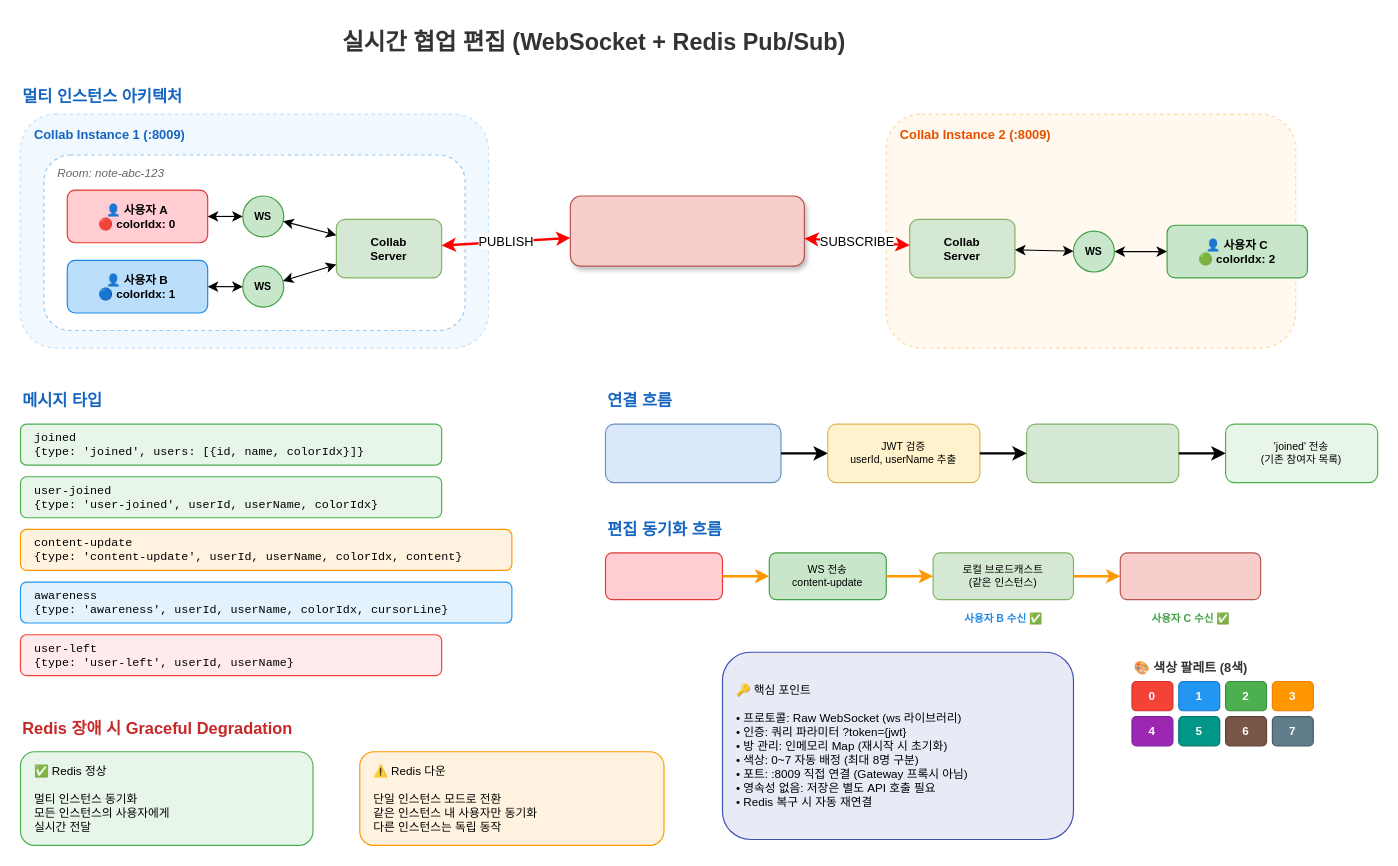
Some shapes in this 1398 by 866 pixel diagram are drawn without their labels. The shapes that lost their labels are listed below. From the top down, each one's centre as x and y in pixels, then its label:
At point (688, 232): "⚡ Redis Pub/Sub channel: labnote:collab".
At point (692, 453): "WS 연결 요청 /collab/notes/{noteId} ?token={jwt}".
At point (1102, 453): "Room 입장 색상 자동 배정 (0~7)".
At point (663, 576): "사용자 A 텍스트 입력".
At point (1190, 576): "Redis PUBLISH (다른 인스턴스)".
